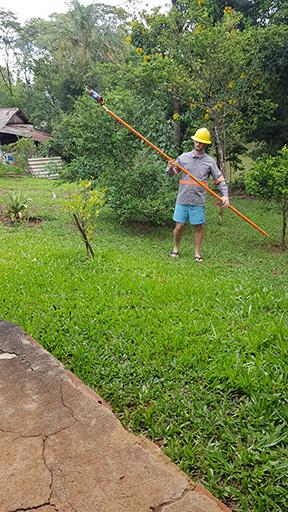Capacete: (189, 127, 212, 154)
Detector_Tensao_Contato: (83, 86, 105, 108)
Vara_Manobra: (101, 102, 269, 237)
